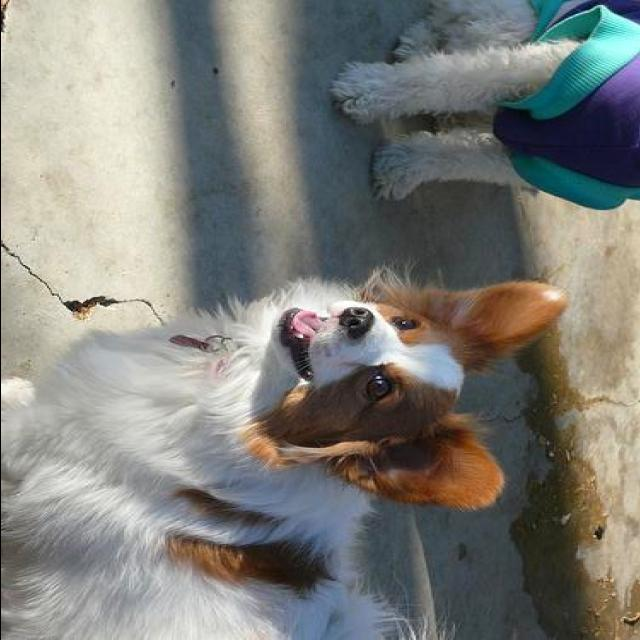papillon: (1, 282, 572, 638)
